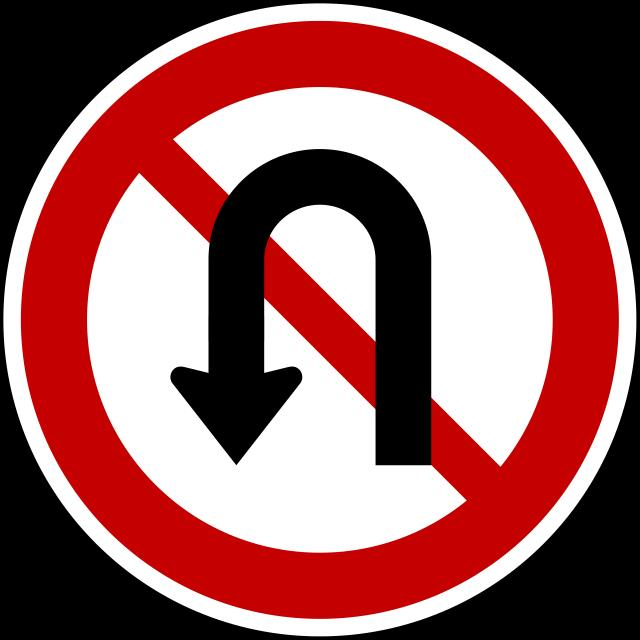regulatory_No_u-turn: (0, 0, 640, 640)
